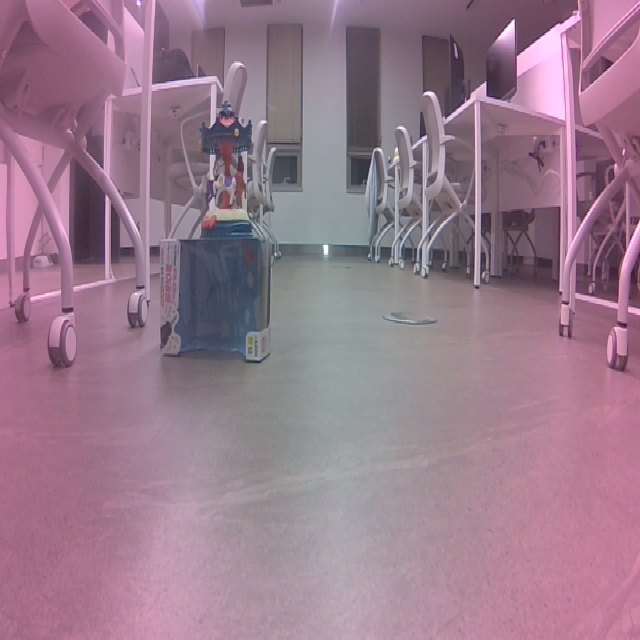목적지: (241, 97, 318, 219)
